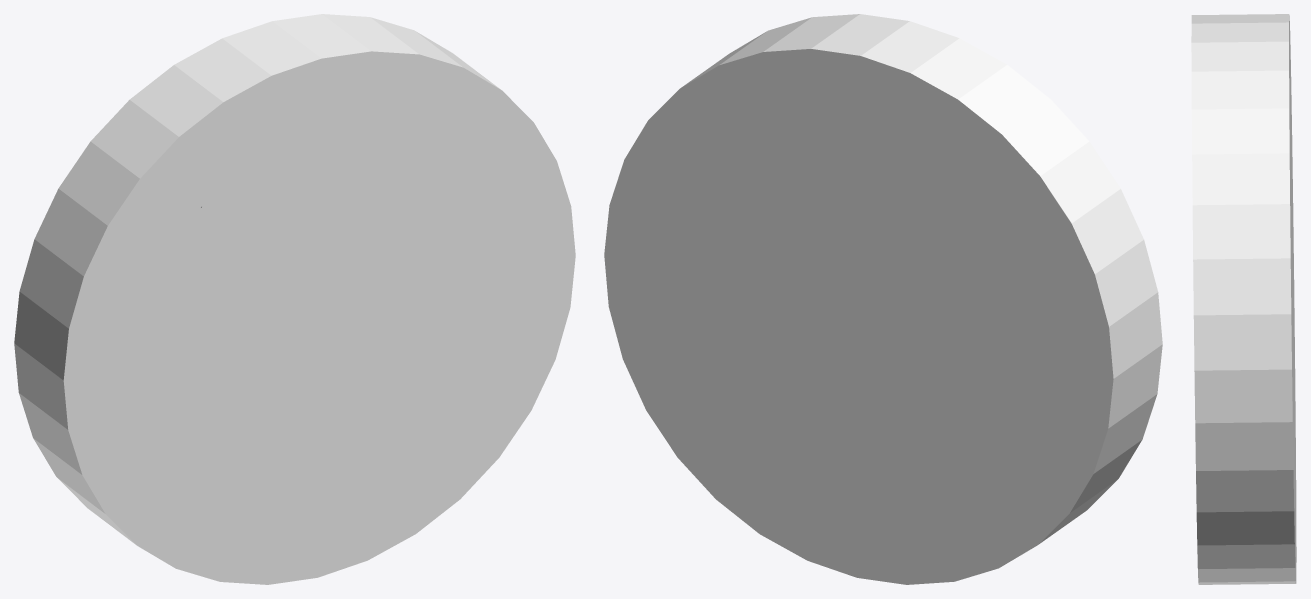
The model's file is time.obj.
3 renders of one model, left to right at view 1: azimuth 30°, elevation 25°; view 2: azimuth 150°, elevation 25°; view 3: azimuth 270°, elevation 25°, orthographic.
Parts seen in each view (by area): view 1: 円柱; view 2: 円柱; view 3: 円柱.
Part boxes in pixels (left/top/right/bottom): 円柱: left=14, top=14, right=575, bottom=584; 円柱: left=604, top=14, right=1162, bottom=584; 円柱: left=1191, top=14, right=1296, bottom=584.
Bounding box in the file's own units: 2.84 × 2.77 × 0.5121.
1 material, 1 textured.
